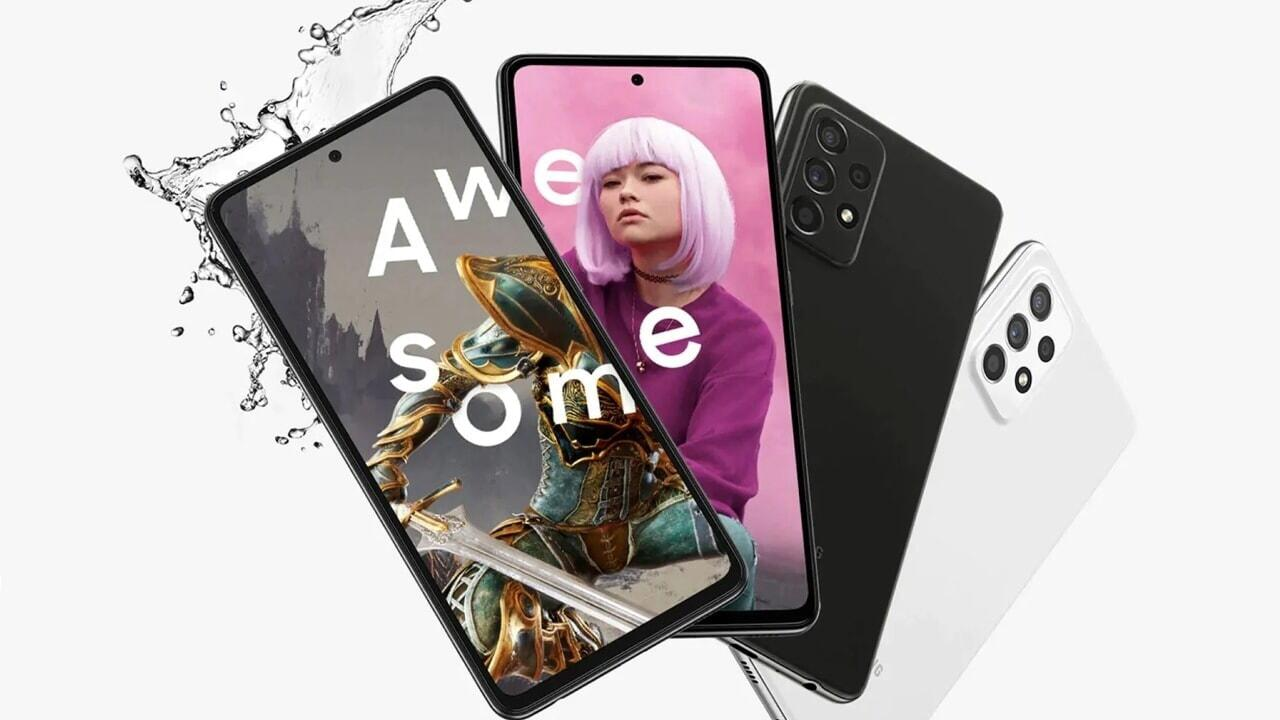Smartphone: (234, 113, 714, 694), (656, 93, 1012, 672), (721, 220, 1137, 714), (512, 43, 777, 627)
